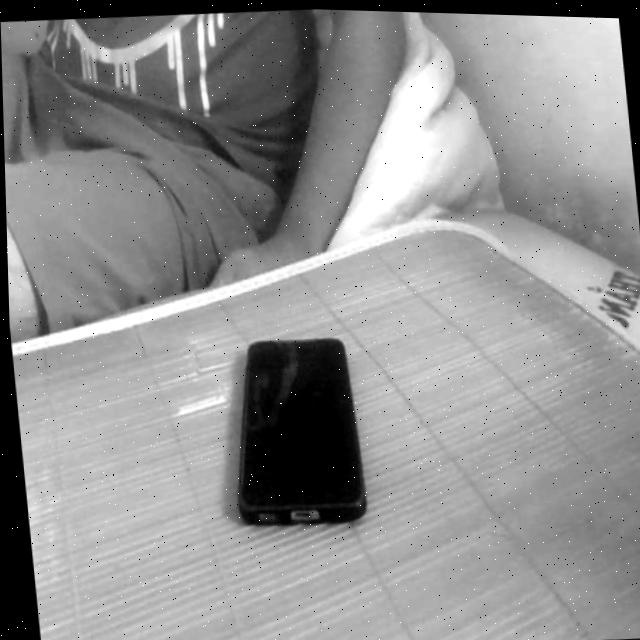phone: (210, 294, 383, 559)
